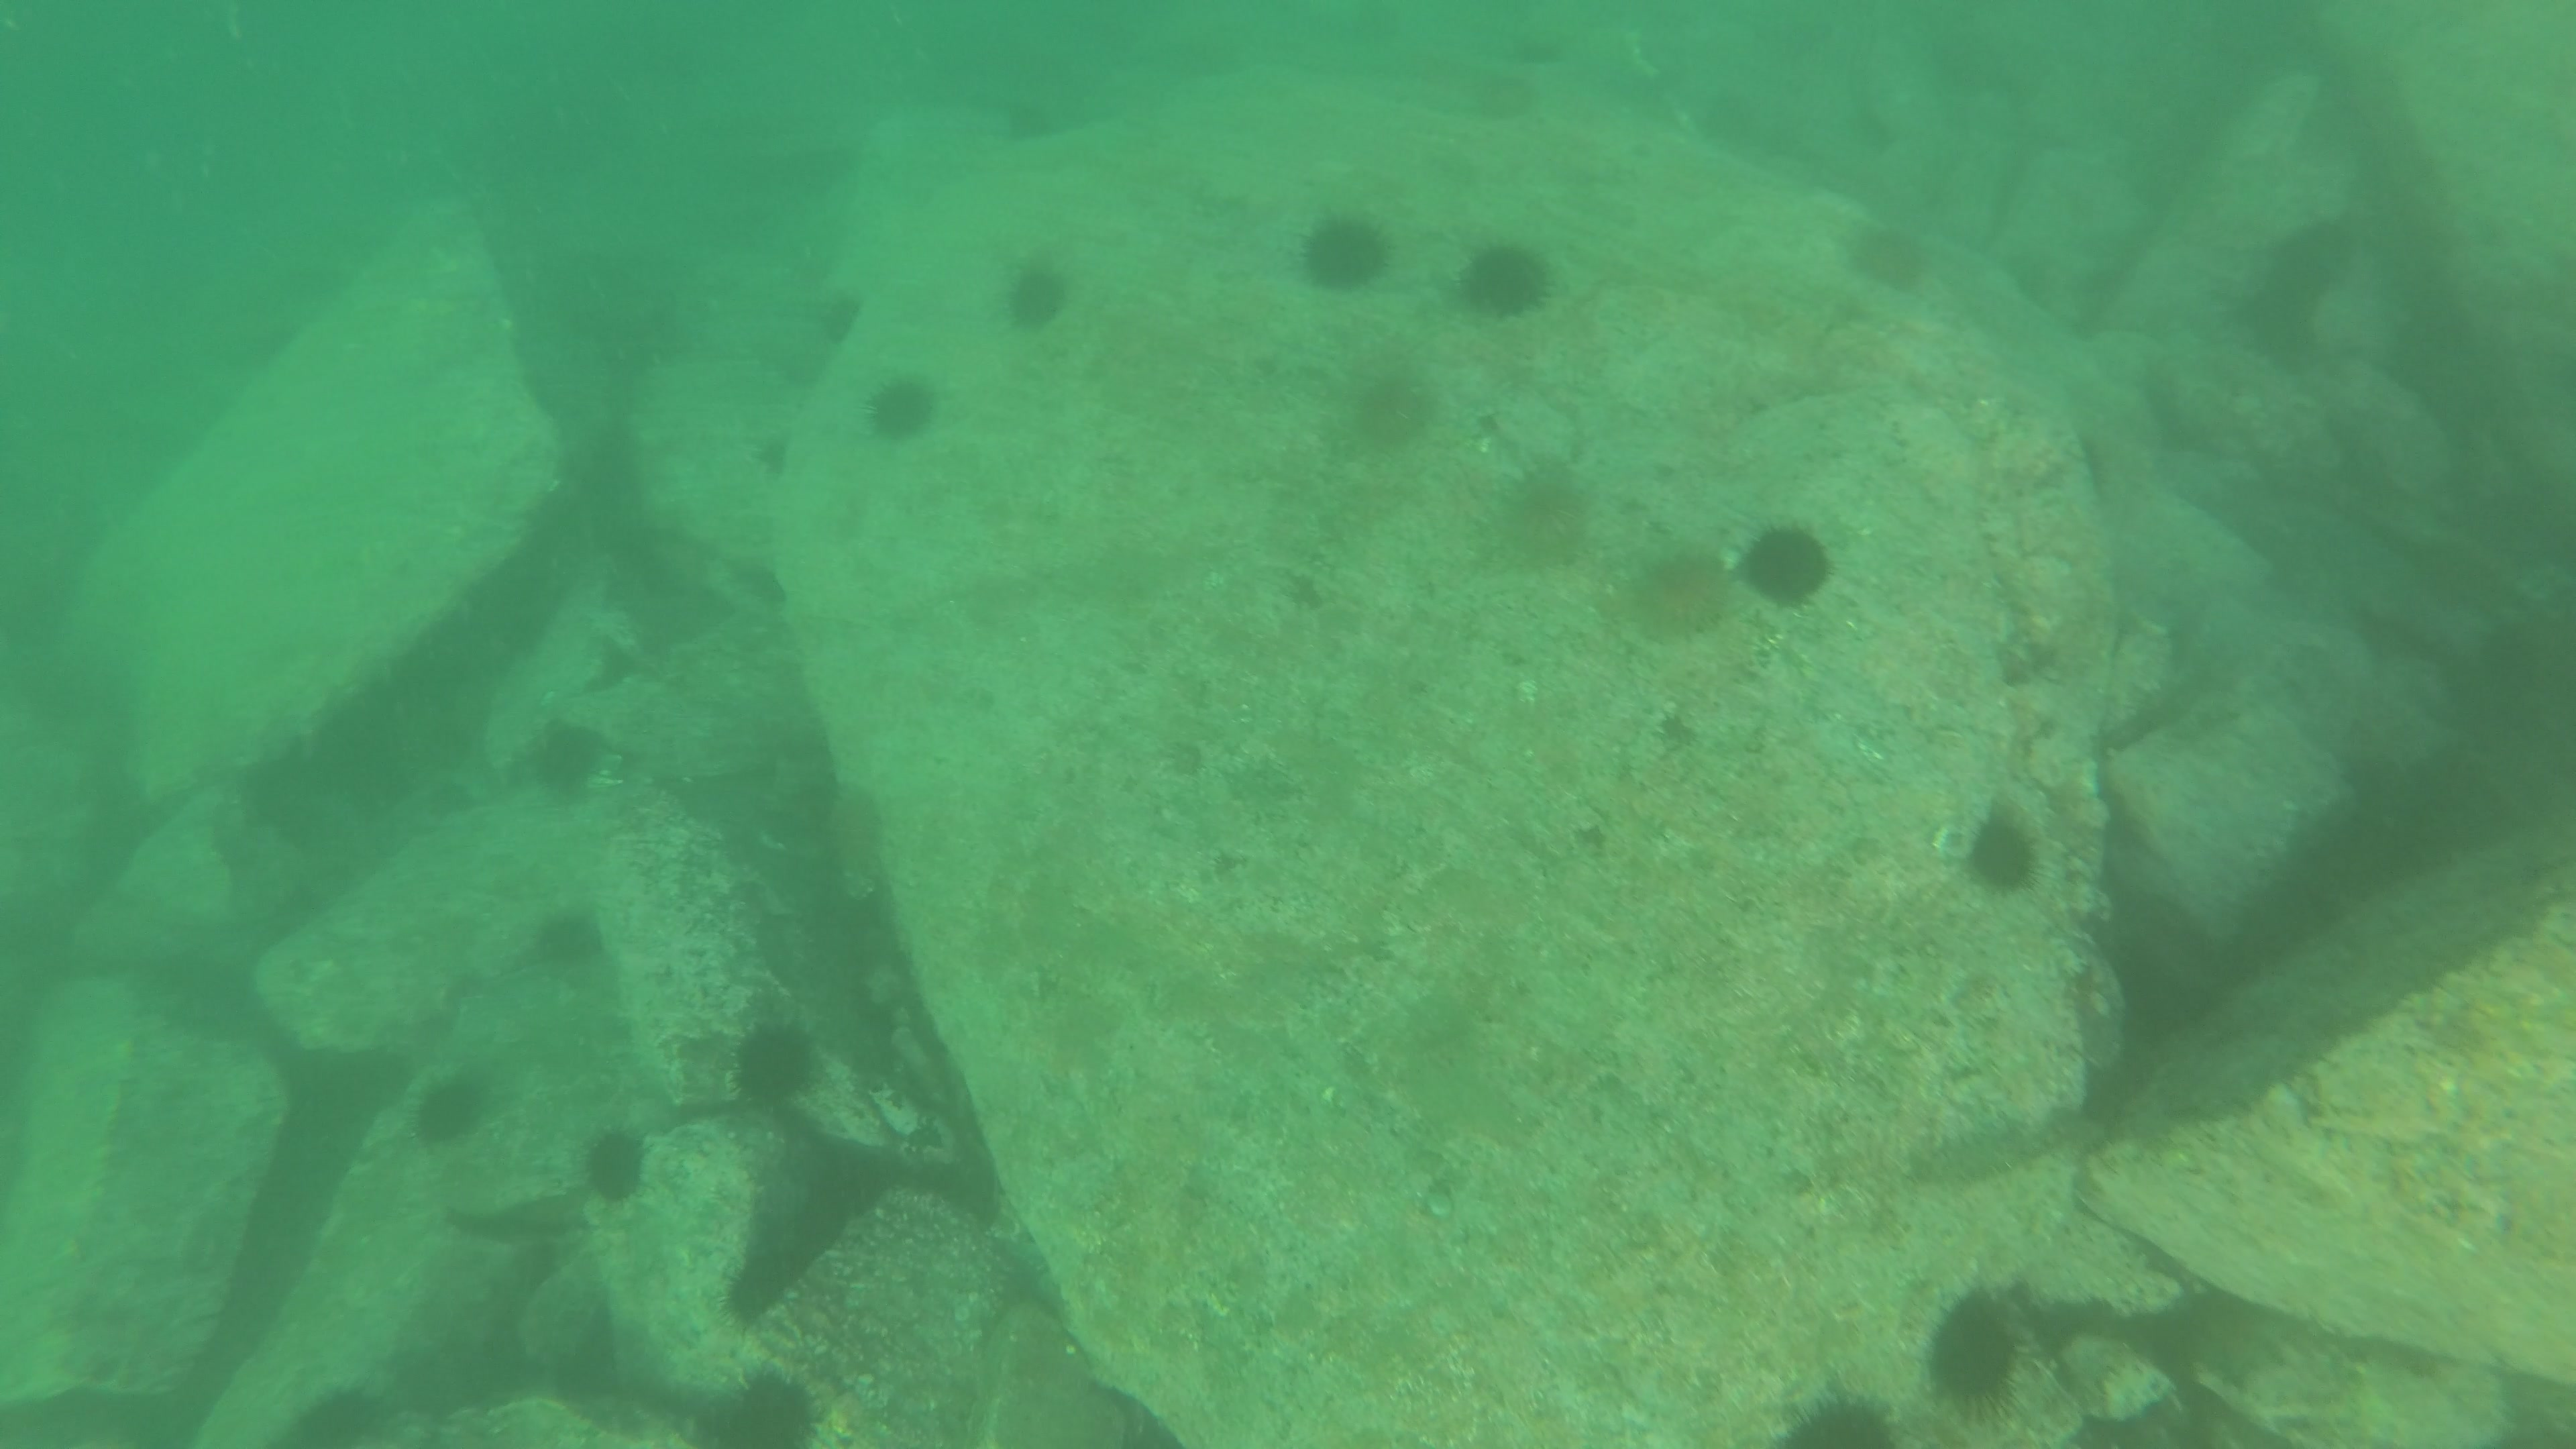echinus: (1934, 1292, 2038, 1417), (1495, 460, 1596, 571), (1642, 538, 1732, 644), (702, 1361, 814, 1444), (1332, 366, 1433, 456), (732, 1019, 832, 1102), (1748, 517, 1833, 610), (529, 722, 609, 814), (1971, 805, 2047, 897), (718, 1258, 817, 1327), (1463, 244, 1552, 320), (278, 1396, 403, 1449), (1847, 219, 1932, 287), (403, 1074, 488, 1141), (872, 372, 941, 453), (1787, 1405, 1913, 1449), (1304, 219, 1392, 281), (524, 904, 598, 975), (1463, 64, 1532, 131), (587, 1132, 648, 1196), (1016, 260, 1069, 331)
